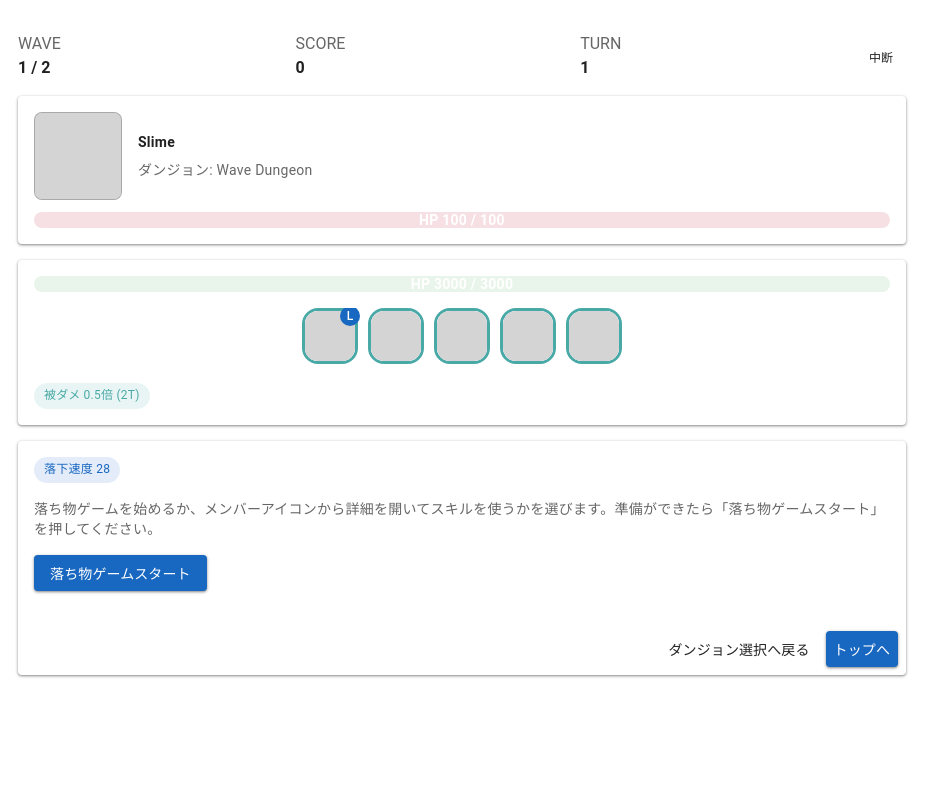
it: BattleView › 敵を倒したら次の敵に進むメッセージを表示してコマンド画面へ戻る
Click the button "落ち物ゲームスタート". click: (120, 573)
box: [34,555,207,591]
(page scrolled)
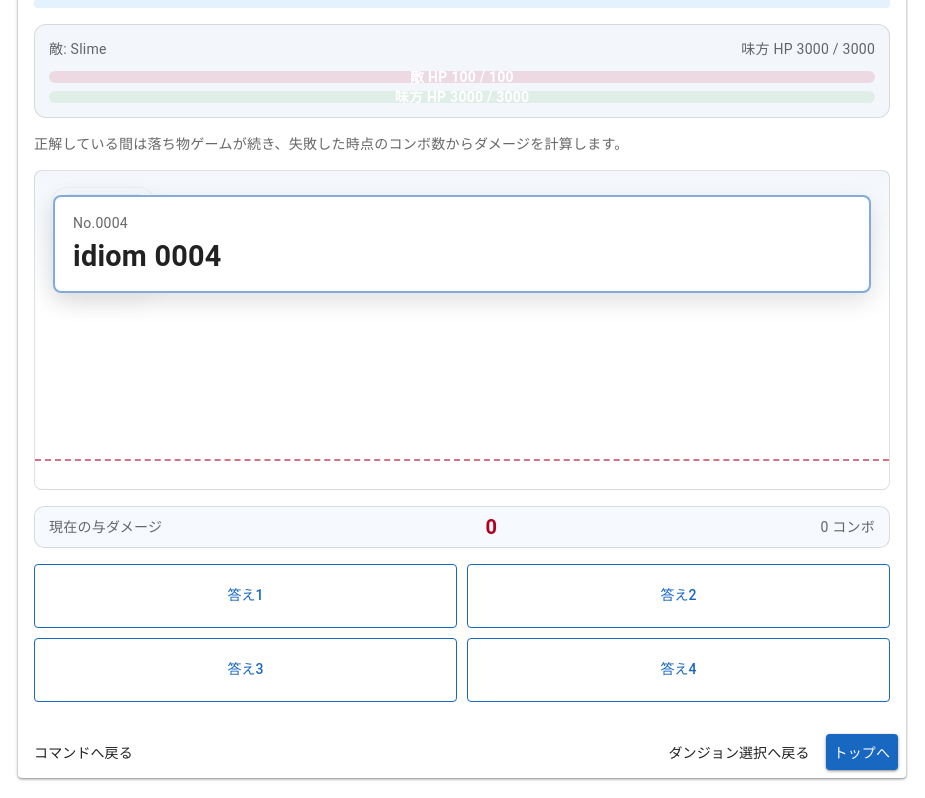
Click the button "答え1". click: (246, 596)
box: [34,564,457,628]
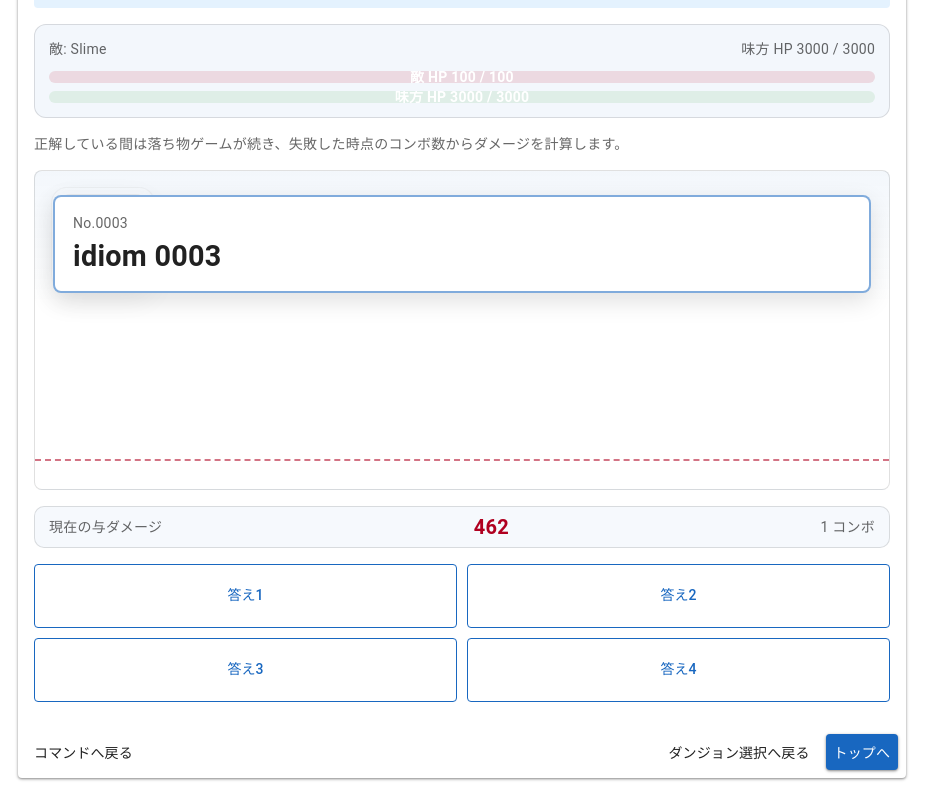
Click the button "答え1". click: (246, 596)
box: [34,564,457,628]
(page scrolled)
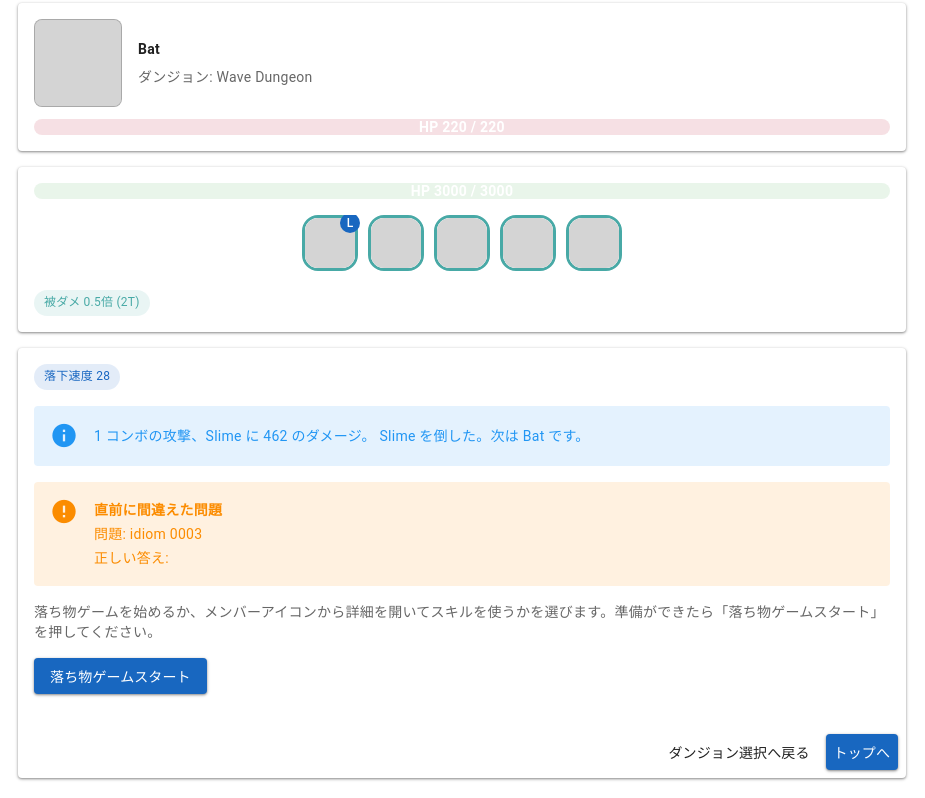
expect the text "1 コンボの攻撃、Slime に 462 のダメージ。 Slime を倒した。次は Bat です。" is shown: met, box [94,428,590,444]
expect the text "Bat" is shown: met, box [138,41,160,57]
